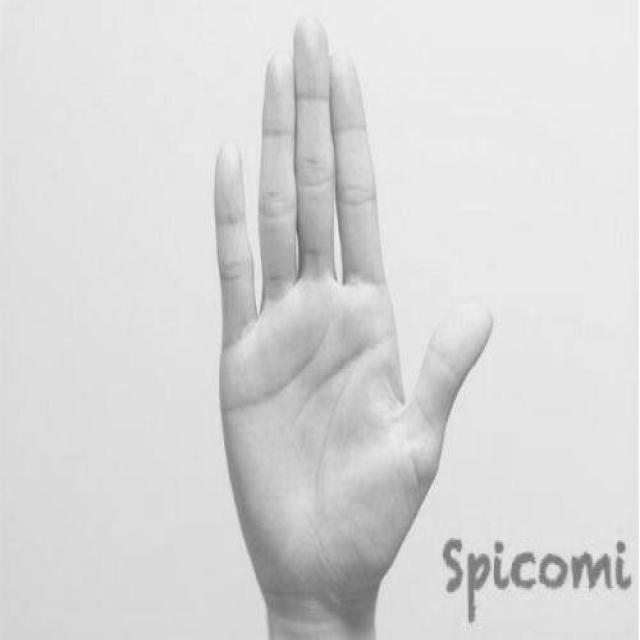stop: (206, 6, 497, 640)
